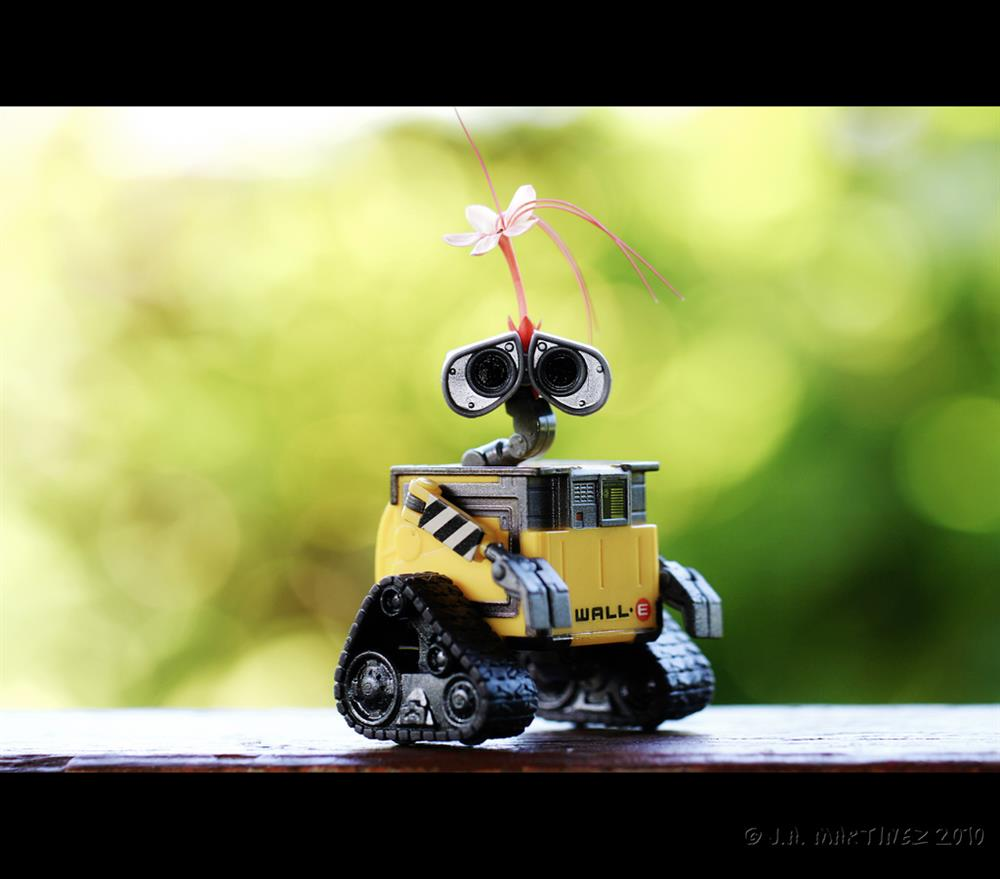walle: (335, 324, 726, 744)
